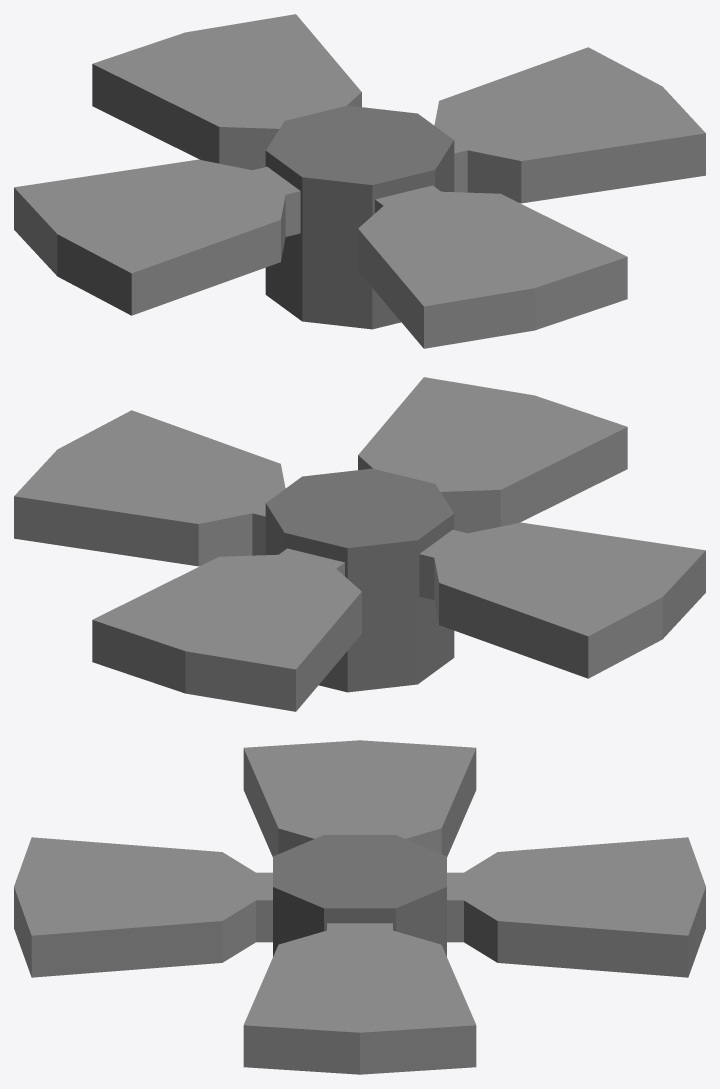
File: HousePart_01_2.fbx
The picture shows the model from 3 angles, top to bottom: view 1: azimuth 30°, elevation 25°; view 2: azimuth 150°, elevation 25°; view 3: azimuth 270°, elevation 25°; orthographic projection.
Parts seen in each view (by area): view 1: HousePart_01_2; view 2: HousePart_01_2; view 3: HousePart_01_2.
Boxes of the visible parts, box(x1,y1,x2,y2) form: HousePart_01_2: box(14, 14, 705, 348); HousePart_01_2: box(14, 377, 705, 711); HousePart_01_2: box(14, 740, 705, 1074).
Bounding box in the file's own units: 40.62 × 9.25 × 40.62.
